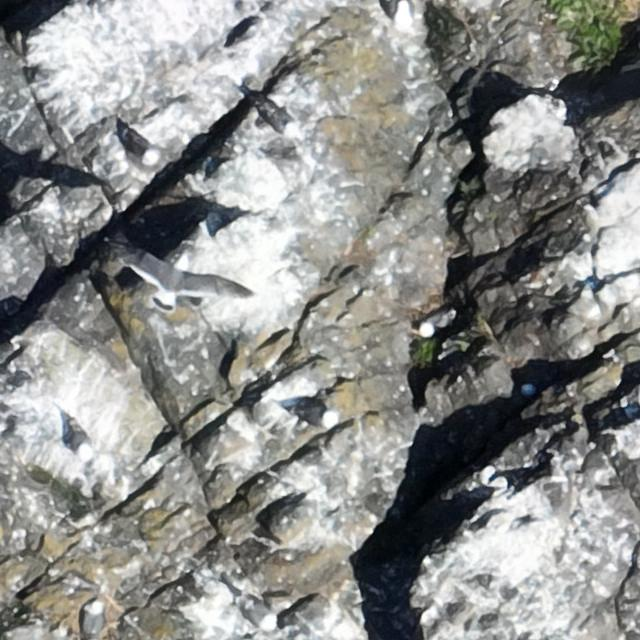F: (128, 251, 234, 307)
umineko: (242, 600, 276, 629), (122, 130, 157, 158), (66, 426, 94, 461), (292, 404, 336, 426), (84, 602, 104, 637), (421, 310, 450, 333), (267, 111, 292, 134)
